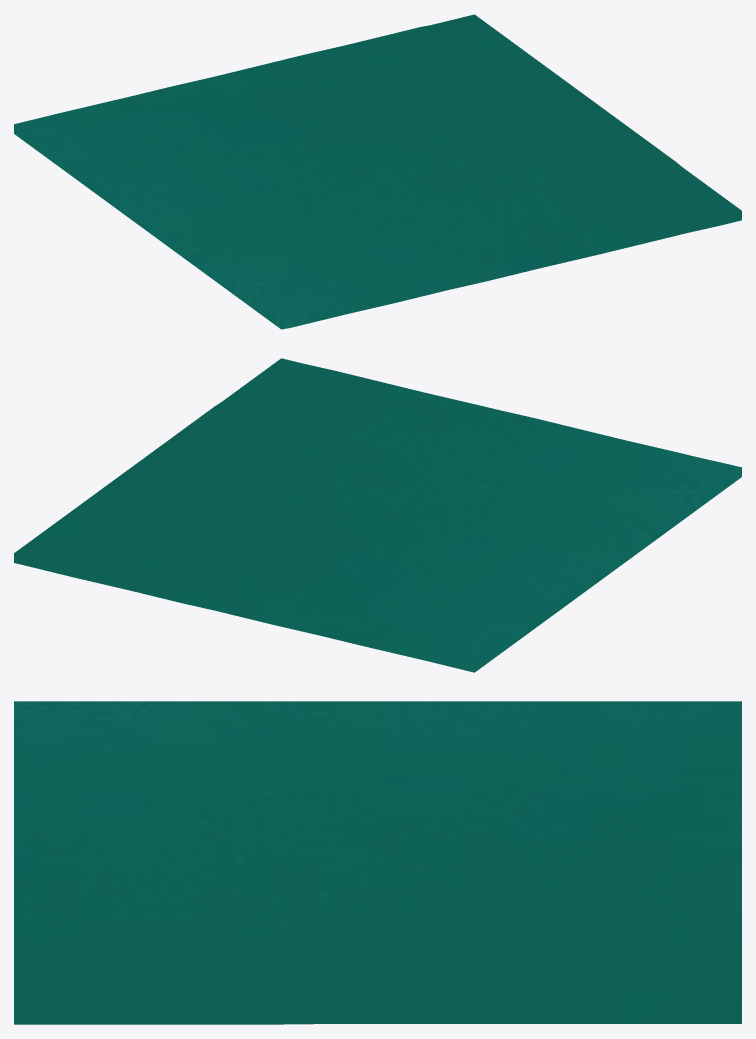
Rendered from z20-167556-405168-h0-yup-uvflip-v3-world.glb.
The picture shows the model from 3 angles, top to bottom: view 1: azimuth 30°, elevation 25°; view 2: azimuth 150°, elevation 25°; view 3: azimuth 270°, elevation 25°; orthographic projection. The views are drawn at different scales.
Bounding box in the file's own units: 30.16 × 0.8 × 30.32.
Materials: 1 (1 with a texture image).
